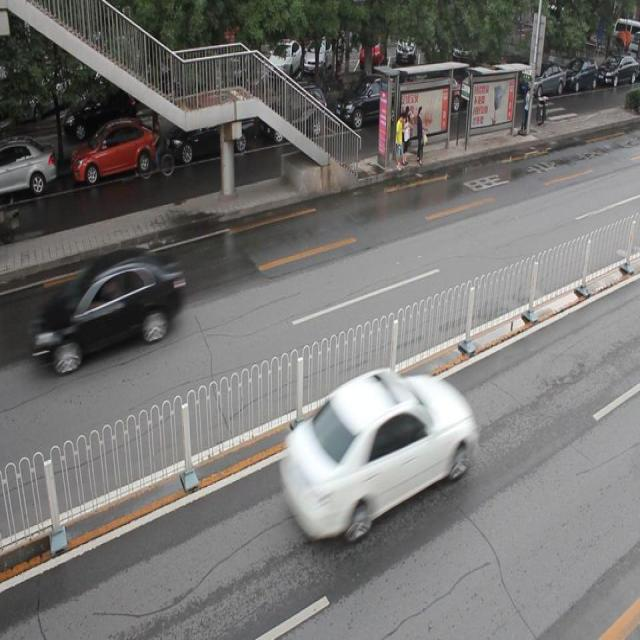car: (279, 366, 478, 540), (29, 245, 188, 376), (71, 118, 160, 181), (164, 108, 255, 160), (334, 76, 399, 133), (260, 86, 327, 139), (1, 138, 58, 199)
